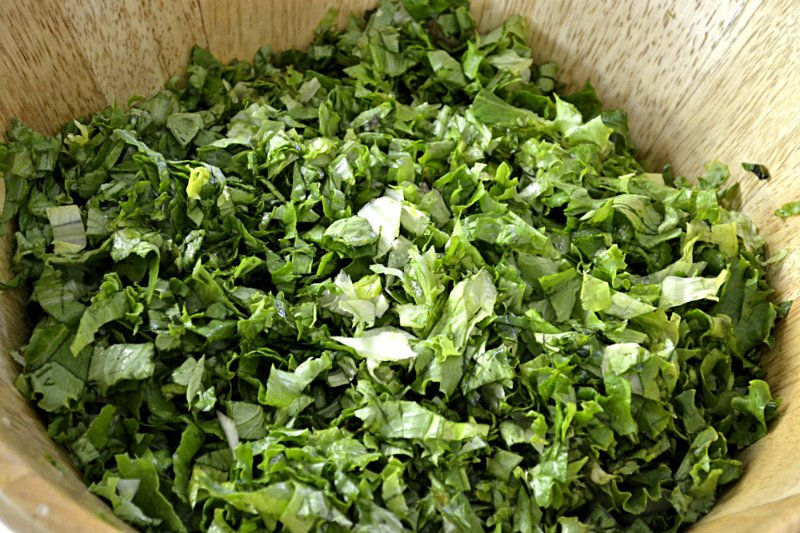chopped lettuce: (60, 112, 756, 488)
